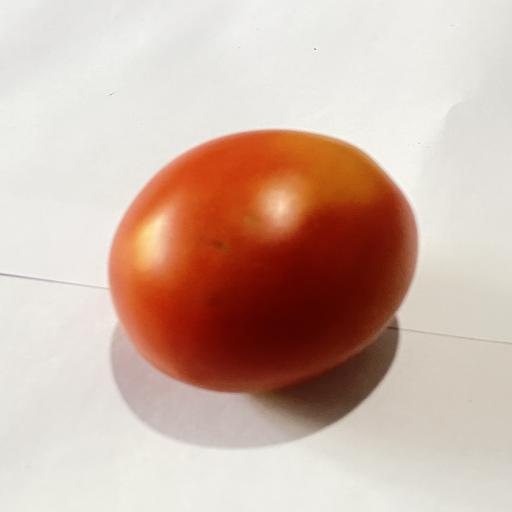ripe: (109, 130, 417, 392)
